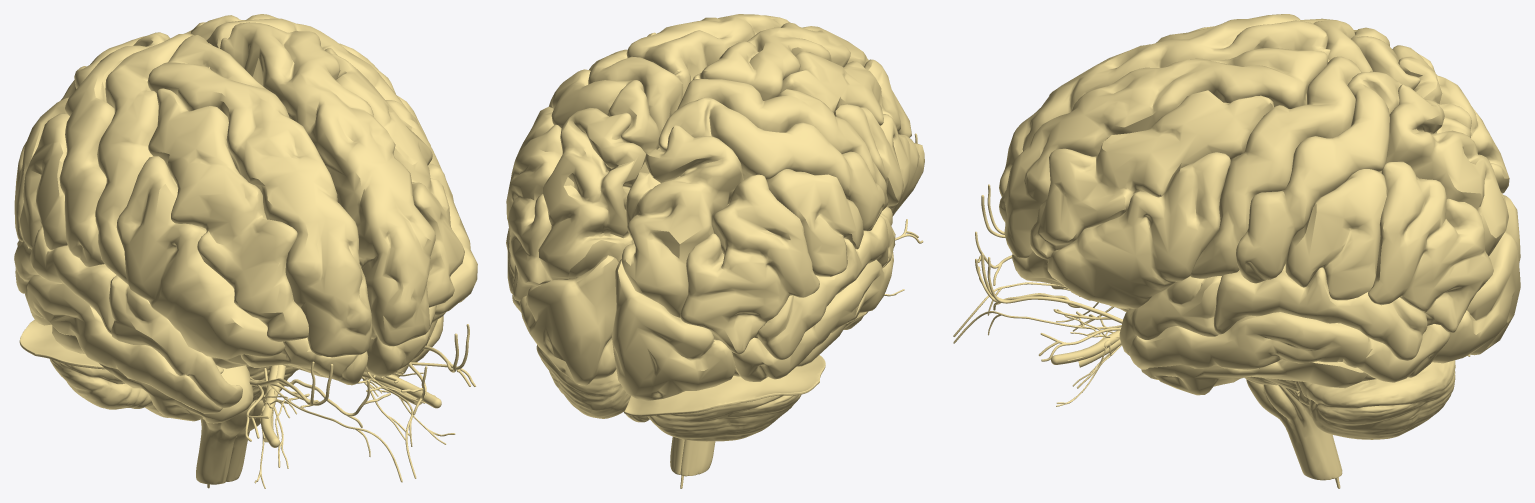
Rendered from male-nervous.glb.
3 renders of one model, left to right at view 1: azimuth 30°, elevation 25°; view 2: azimuth 150°, elevation 25°; view 3: azimuth 270°, elevation 25°, orthographic. The views are drawn at different scales.
Parts seen in each view (by area): view 1: FJ1834, FJ1833, FJ1788, FJ1745, FJ1801, FJ1798, FJ1790, FJ1787, FJ1838, FJ1842, FJ1840, FJ1747 (+17 smaller); view 2: FJ1733, FJ1836, FJ1835, FJ1792, FJ1798, FJ1791, FJ1834, FJ1732, FJ1842, FJ1801, FJ1833, FJ1788 (+11 smaller); view 3: FJ1833, FJ1787, FJ1744, FJ1732, FJ1789, FJ1797, FJ1800, FJ1834, FJ1841, FJ1835, FJ1839, FJ1781 (+10 smaller).
Boxes of the visible parts, bbox=[...] form: FJ1834: bbox=[147, 35, 372, 357]; FJ1833: bbox=[220, 22, 435, 346]; FJ1788: bbox=[148, 88, 308, 341]; FJ1745: bbox=[116, 156, 285, 359]; FJ1801: bbox=[95, 33, 193, 284]; FJ1798: bbox=[59, 32, 170, 266]; FJ1790: bbox=[25, 275, 222, 413]; FJ1787: bbox=[324, 48, 464, 307]; FJ1838: bbox=[109, 275, 242, 407]; FJ1842: bbox=[19, 113, 69, 250]; FJ1840: bbox=[14, 227, 116, 333]; FJ1747: bbox=[52, 326, 253, 423]; FJ1733: bbox=[680, 174, 819, 354]; FJ1836: bbox=[622, 125, 743, 317]; FJ1835: bbox=[538, 108, 645, 280]; FJ1792: bbox=[612, 259, 735, 401]; FJ1798: bbox=[658, 97, 885, 230]; FJ1791: bbox=[520, 255, 618, 385]; FJ1834: bbox=[693, 22, 868, 100]; FJ1732: bbox=[506, 124, 562, 300]; FJ1842: bbox=[767, 169, 863, 276]; FJ1801: bbox=[677, 79, 888, 210]; FJ1833: bbox=[626, 14, 789, 97]; FJ1788: bbox=[778, 51, 911, 137]; FJ1833: bbox=[999, 48, 1329, 258]; FJ1787: bbox=[1029, 90, 1273, 259]; FJ1744: bbox=[1047, 152, 1230, 308]; FJ1732: bbox=[1368, 161, 1493, 332]; FJ1789: bbox=[1128, 312, 1450, 382]; FJ1797: bbox=[1236, 71, 1401, 283]; FJ1800: bbox=[1190, 56, 1361, 278]; FJ1834: bbox=[999, 14, 1330, 196]; FJ1841: bbox=[1285, 169, 1387, 300]; FJ1835: bbox=[1379, 84, 1508, 256]; FJ1839: bbox=[1214, 264, 1427, 360]; FJ1781: bbox=[1296, 360, 1455, 439].
Bounding box in the file's own units: 0.1408 × 0.1719 × 0.1958.
